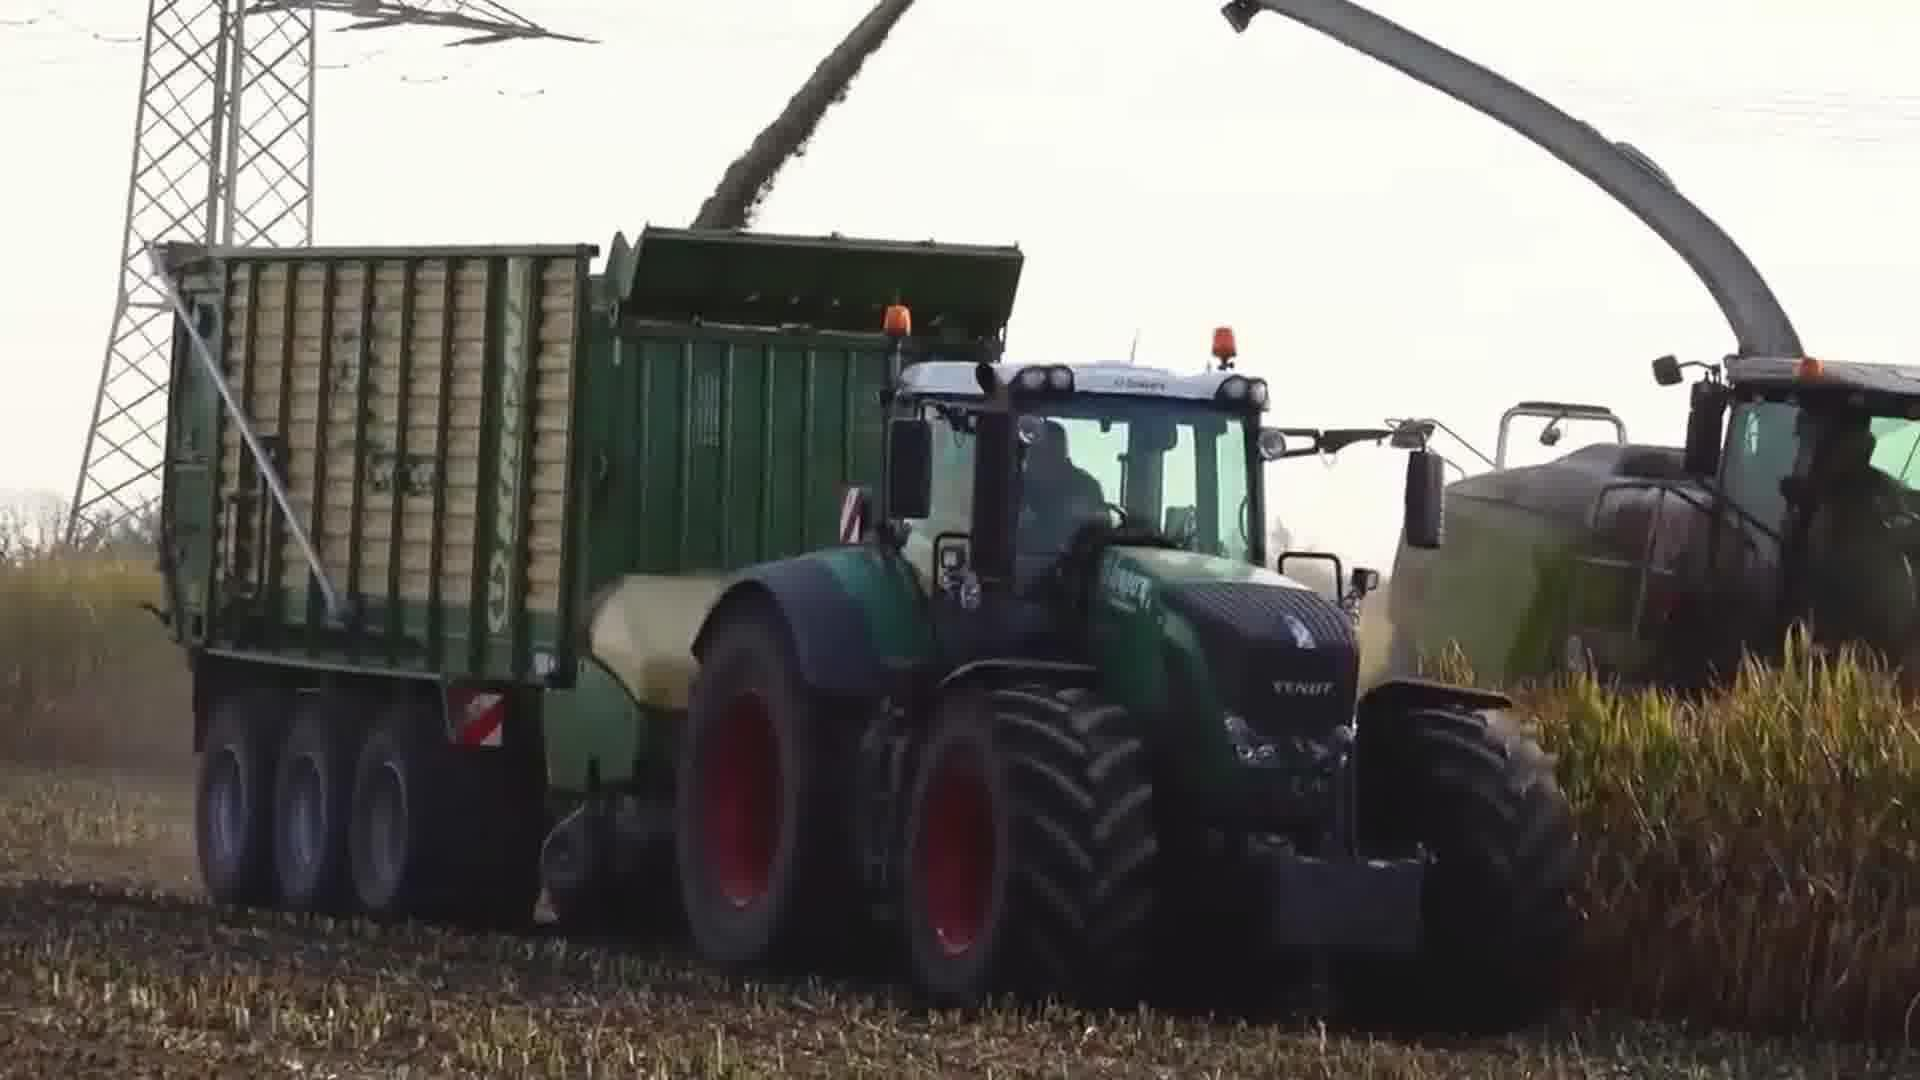combine harvester: (1207, 0, 1920, 741)
tractor: (661, 290, 1589, 1047)
trailer: (136, 221, 1030, 930)
